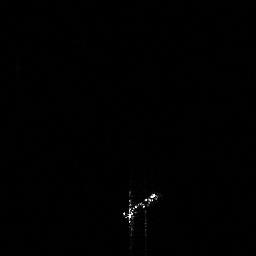ship: (120, 188, 162, 222)
